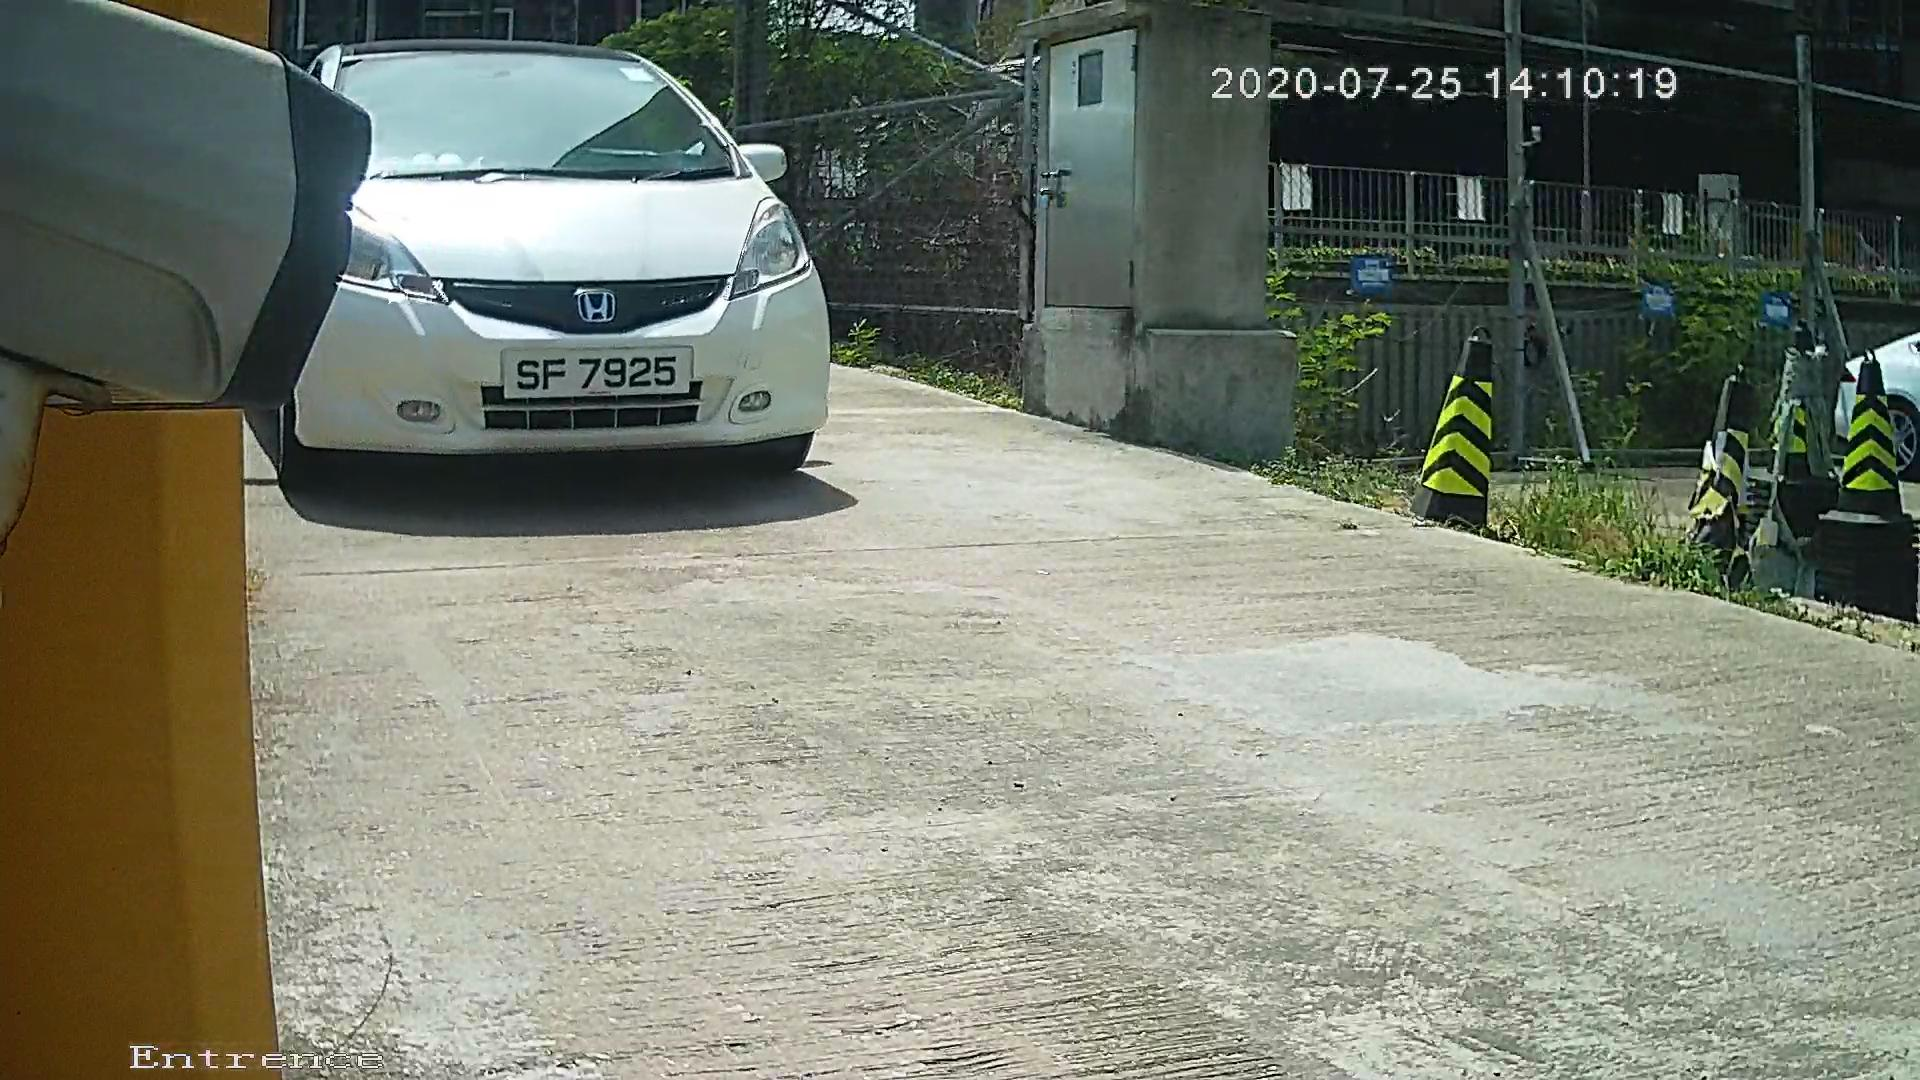Car: (206, 5, 909, 516)
License Plate: (498, 338, 678, 415)
